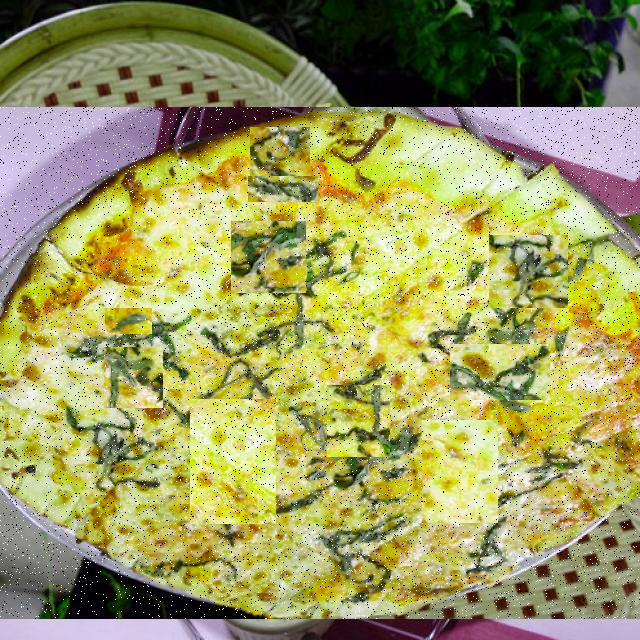Basil: (489, 235, 568, 308), (450, 344, 550, 400), (231, 221, 306, 293), (327, 385, 390, 457), (90, 216, 192, 256), (372, 302, 434, 363), (104, 347, 163, 408), (250, 127, 310, 176), (248, 176, 318, 202), (105, 308, 152, 334)
Cheese: (190, 399, 276, 524), (422, 420, 498, 523)
Pizza: (0, 107, 640, 619)
